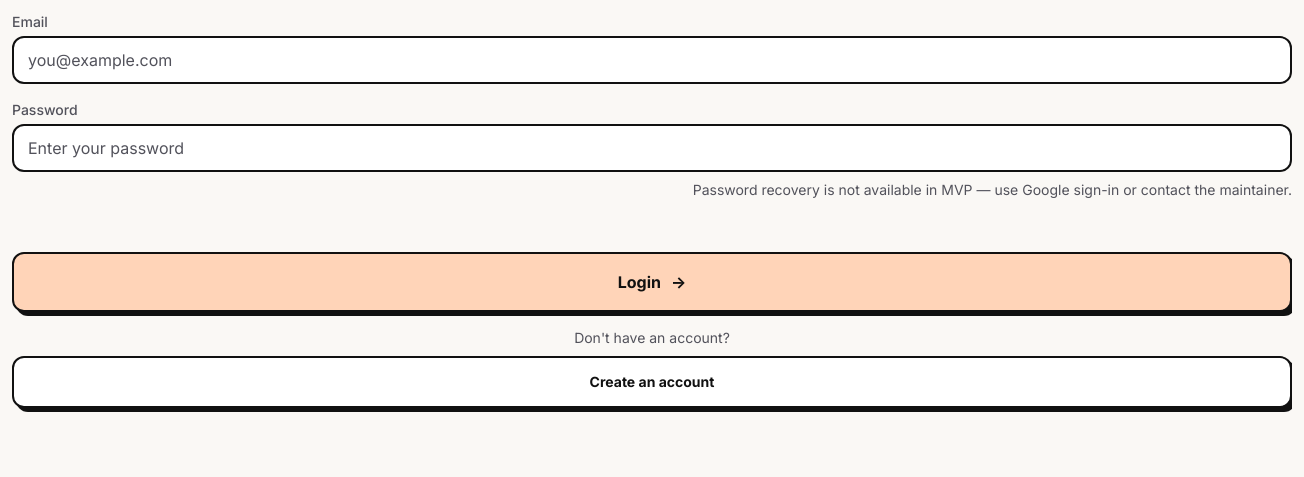
Test case: LoginForm › should associate inline errors with their inputs for assistive technology
Click the button "Login →" at (652, 282), box [12, 252, 1292, 312]
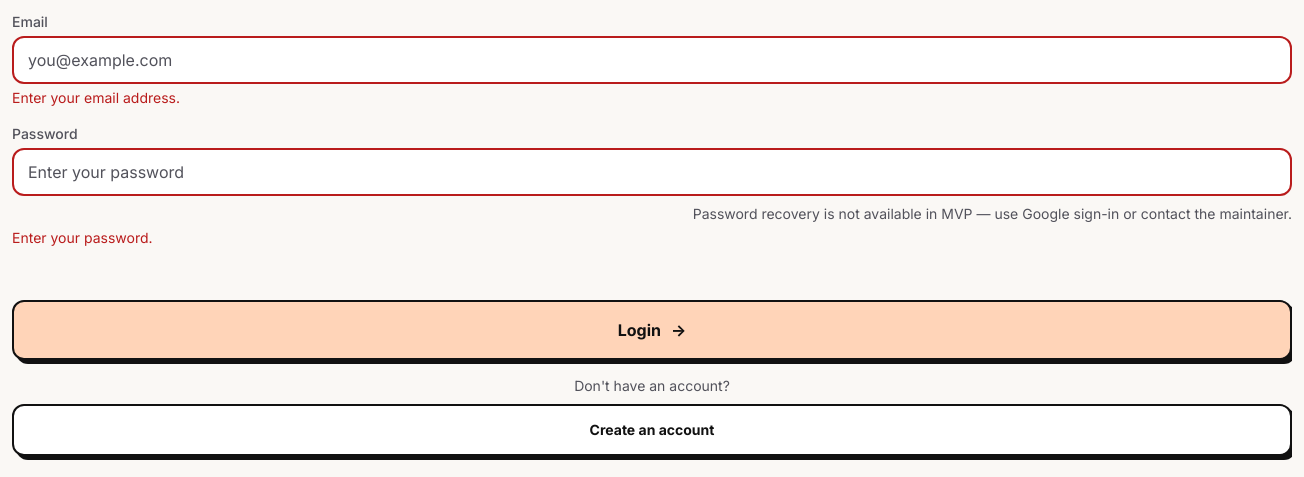
Now the message with id "login-email-error" reads "Enter your email address.", box [12, 89, 180, 106]
